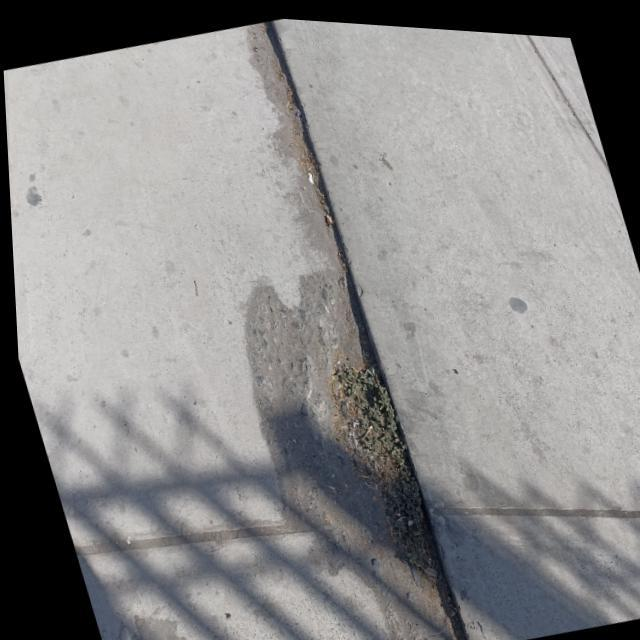hole: (213, 247, 468, 640)
